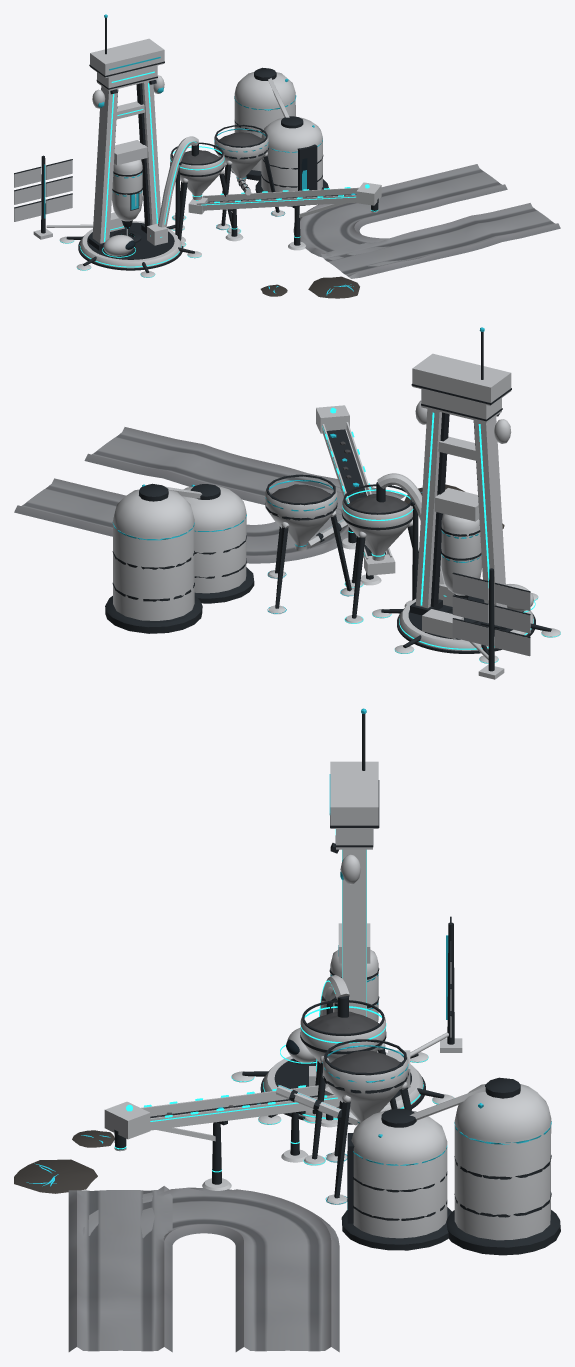
The model's file is mine_game.glb.
The picture shows the model from 3 angles, top to bottom: view 1: azimuth 30°, elevation 25°; view 2: azimuth 150°, elevation 25°; view 3: azimuth 270°, elevation 25°; orthographic projection. The views are drawn at different scales.
Visible parts, largest first — view 1: Base_Paint, Silo, Tier_12, Tier_08, Tier_05, Tier_20, Rig, Base_GlowCyan, Deposit_01; view 2: Base_Paint, Tier_12, Silo, Tier_08, Tier_05, Tier_20, Rig, Base_GlowCyan; view 3: Base_Paint, Tier_12, Silo, Tier_05, Tier_20, Deposit_01, Tier_08, Base_GlowCyan, Rig.
Part boxes in pixels (x1,y1,x2,y2): Base_Paint: (59, 65, 560, 278); Silo: (255, 116, 328, 206); Tier_12: (231, 67, 296, 180); Tier_08: (14, 155, 93, 239); Tier_05: (214, 124, 285, 230); Tier_20: (89, 14, 164, 108); Rig: (112, 140, 147, 235); Base_GlowCyan: (60, 71, 377, 277); Deposit_01: (308, 276, 359, 298); Base_Paint: (14, 389, 560, 663); Tier_12: (105, 483, 202, 633); Silo: (182, 484, 254, 603); Tier_08: (452, 568, 530, 679); Tier_05: (265, 474, 354, 614); Tier_20: (411, 327, 511, 443); Rig: (434, 488, 482, 598); Base_GlowCyan: (322, 412, 560, 663); Base_Paint: (68, 829, 454, 1352); Tier_12: (410, 1077, 560, 1255); Silo: (341, 1108, 451, 1250); Tier_05: (275, 1039, 411, 1204); Tier_20: (329, 708, 379, 884); Deposit_01: (14, 1159, 97, 1193); Tier_08: (410, 916, 462, 1057); Base_GlowCyan: (114, 829, 438, 1172); Rig: (329, 923, 379, 1022).
Bounding box in the file's own units: 41.55 × 21.92 × 29.46.
